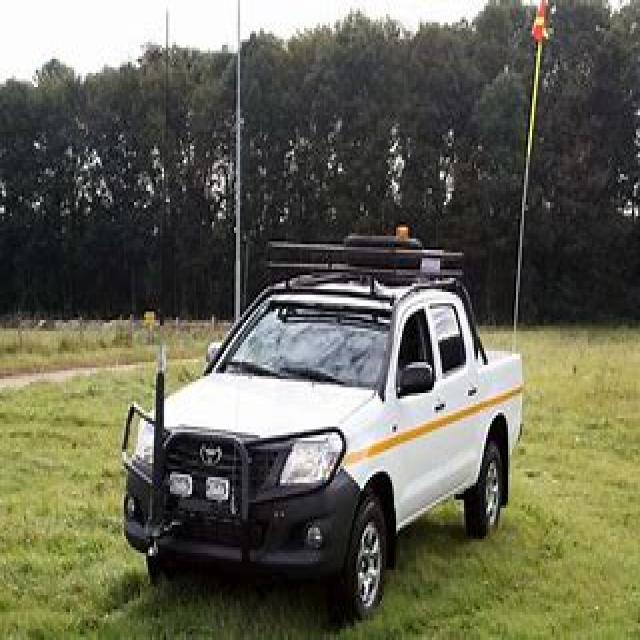light_vehicle: (114, 213, 532, 618)
